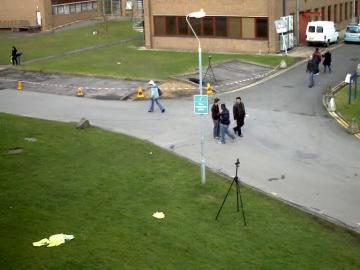person: (229, 96, 247, 139), (230, 97, 246, 140), (149, 80, 164, 112)
